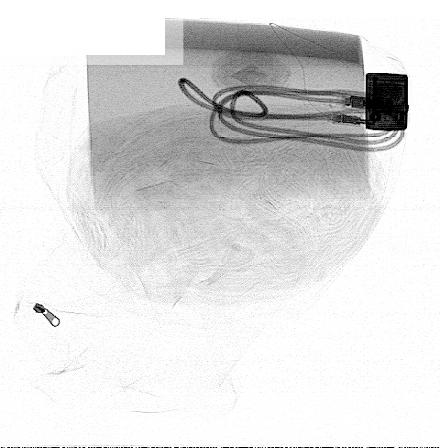Lighter: (365, 72, 409, 131)
